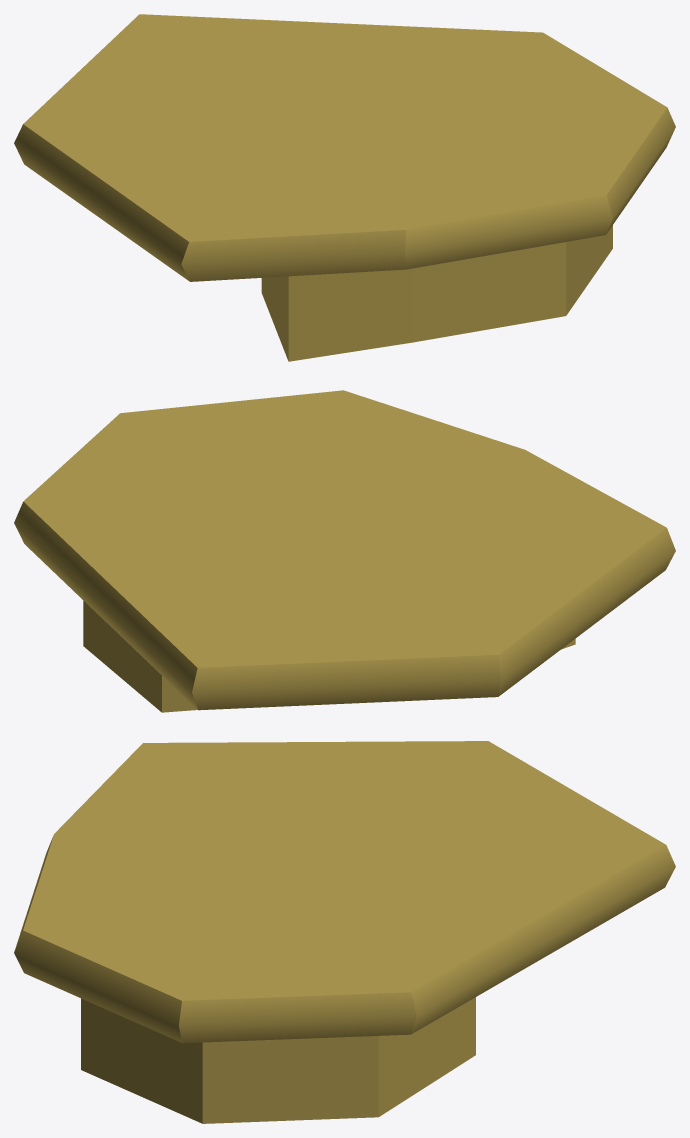
File: Medium_Platform.fbx
3 views of the same model, one above another, from view 1: azimuth 30°, elevation 25°; view 2: azimuth 150°, elevation 25°; view 3: azimuth 270°, elevation 25° (orthographic). The views are drawn at different scales.
Visible parts, largest first — view 1: platform3; view 2: platform3; view 3: platform3.
Part boxes in pixels (x1,y1,x2,y2): platform3: (14,14,675,361); platform3: (14,390,675,712); platform3: (14,741,675,1123).
Bounding box in the file's own units: 11.31 × 2.9 × 11.88.
